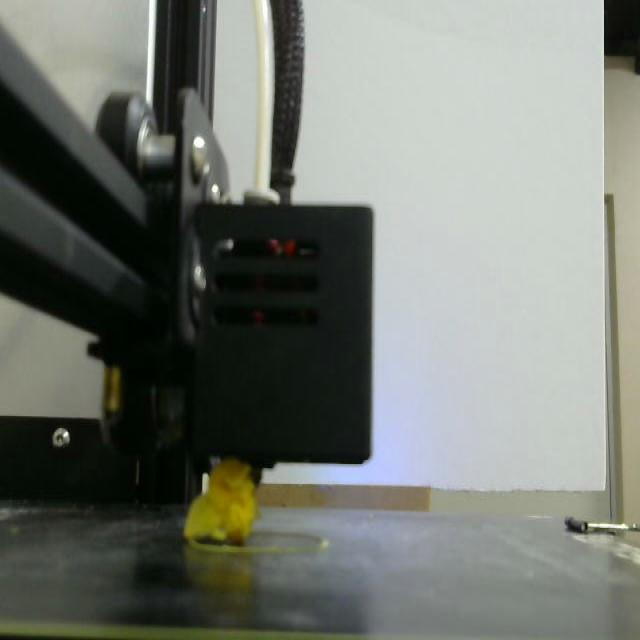spaghetti: (184, 458, 258, 544)
